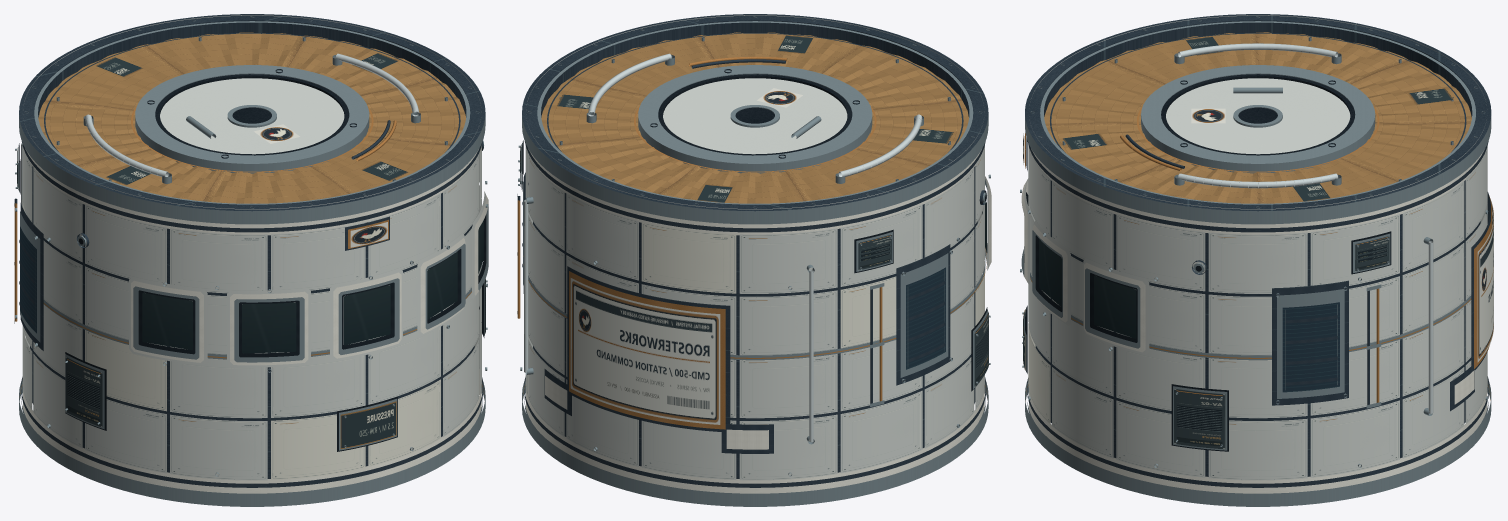
File: RW_CMD_500.obj
3 views of the same model, side by side, from view 1: azimuth 30°, elevation 25°; view 2: azimuth 150°, elevation 25°; view 3: azimuth 270°, elevation 25° (orthographic).
Parts seen in each view (by area): view 1: RW_CmdCladding, RW_CmdSteel, RW_CmdHubblanket, RW_CmdGraphite, RW_CmdWhite, RW_CmdCeramic, RW_CmdCladdingWhite, RW_CmdGlass, RW_CmdBlack, RW_CmdDetail, RW_CmdBronze, RW_CmdRail (+2 smaller); view 2: RW_CmdCladding, RW_CmdHubblanket, RW_CmdGraphite, RW_CmdSteel, RW_CmdCmdlabel, RW_CmdWhite, RW_CmdCeramic, RW_CmdCladdingWhite, RW_CmdBronze, RW_CmdDetail, RW_CmdRail, RW_CmdDisplay (+2 smaller); view 3: RW_CmdCladding, RW_CmdSteel, RW_CmdHubblanket, RW_CmdGraphite, RW_CmdWhite, RW_CmdCeramic, RW_CmdDetail, RW_CmdDisplay, RW_CmdBlack, RW_CmdGlass, RW_CmdRail, RW_CmdBronze (+3 smaller).
Boxes of the visible parts, x1,y1,x2,y2 form: RW_CmdCladding: [22, 145, 481, 480]; RW_CmdSteel: [14, 16, 488, 506]; RW_CmdHubblanket: [38, 32, 465, 203]; RW_CmdGraphite: [14, 14, 485, 487]; RW_CmdWhite: [23, 15, 488, 493]; RW_CmdCeramic: [129, 78, 485, 367]; RW_CmdCladdingWhite: [22, 200, 440, 479]; RW_CmdGlass: [142, 220, 483, 353]; RW_CmdBlack: [19, 74, 486, 451]; RW_CmdDetail: [17, 52, 485, 448]; RW_CmdBronze: [14, 105, 484, 398]; RW_CmdRail: [21, 53, 419, 212]; RW_CmdCladding: [525, 145, 984, 480]; RW_CmdHubblanket: [541, 32, 968, 203]; RW_CmdGraphite: [517, 14, 988, 487]; RW_CmdSteel: [517, 16, 990, 506]; RW_CmdCmdlabel: [570, 278, 720, 424]; RW_CmdWhite: [526, 15, 991, 493]; RW_CmdCeramic: [663, 78, 988, 270]; RW_CmdCladdingWhite: [641, 222, 984, 348]; RW_CmdBronze: [517, 56, 987, 429]; RW_CmdDetail: [520, 35, 988, 387]; RW_CmdRail: [524, 53, 922, 442]; RW_CmdDisplay: [906, 267, 945, 369]; RW_CmdCladding: [1028, 145, 1487, 480]; RW_CmdSteel: [1020, 16, 1491, 506]; RW_CmdHubblanket: [1044, 32, 1471, 203]; RW_CmdGraphite: [1025, 14, 1491, 487]; RW_CmdWhite: [1021, 15, 1487, 493]; RW_CmdCeramic: [1024, 78, 1350, 355]; RW_CmdDetail: [1023, 36, 1453, 449]; RW_CmdDisplay: [1282, 302, 1339, 392]; RW_CmdBlack: [1024, 74, 1391, 451]; RW_CmdGlass: [1027, 196, 1136, 338]; RW_CmdRail: [1178, 43, 1433, 413]; RW_CmdBronze: [1024, 105, 1492, 402].
Size of the model in its own units: 5.02 by 3.44 by 4.98.
15 materials, 15 textured.
